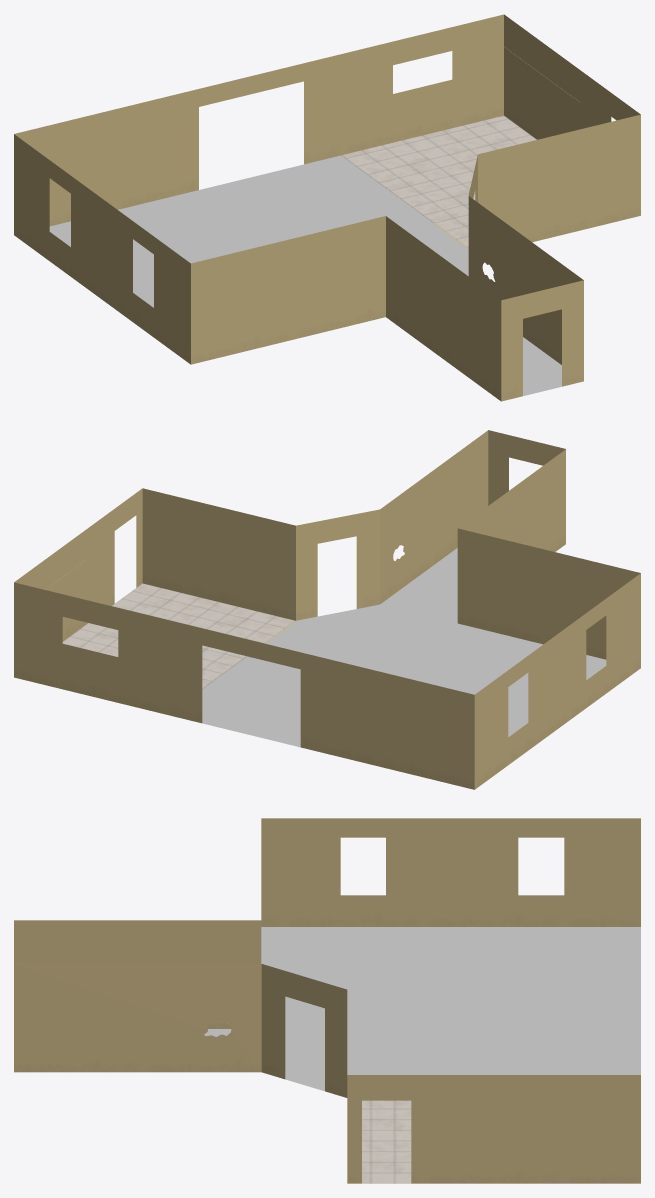
File: Volution House.fbx
3 renders of one model, top to bottom at view 1: azimuth 30°, elevation 25°; view 2: azimuth 150°, elevation 25°; view 3: azimuth 270°, elevation 25°, orthographic. The views are drawn at different scales.
Visible parts, largest first — view 1: house; view 2: house; view 3: house.
Boxes of the visible parts, box(x1,y1,x2,y2) form: house: box(14, 14, 640, 401); house: box(14, 430, 640, 789); house: box(14, 818, 640, 1183).
Size of the model in its own units: 1334 by 263 by 1378.
